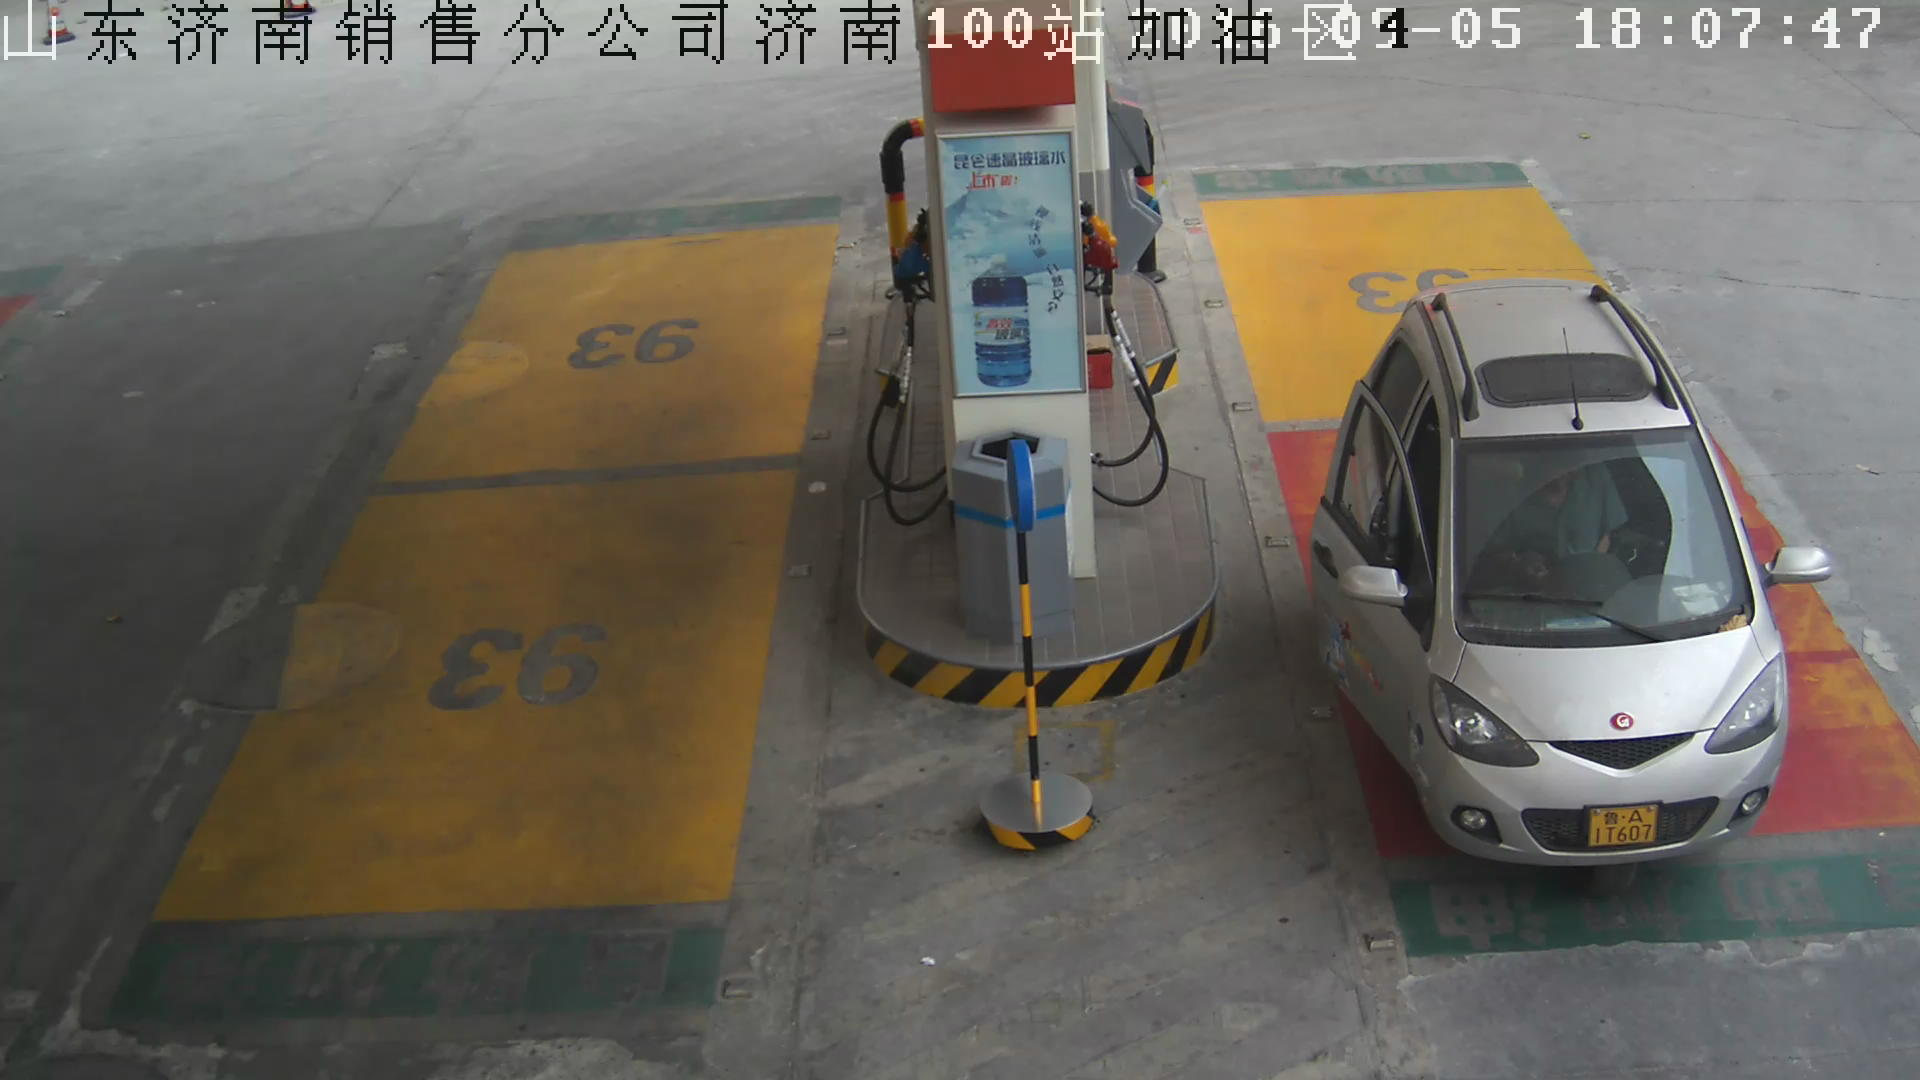yellow: (1586, 804, 1662, 851)
